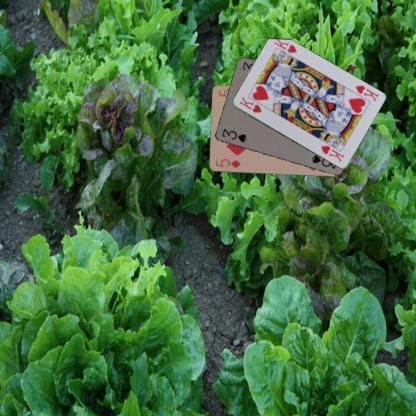3s: (219, 126, 248, 144)
5d: (213, 156, 242, 170)
Kh: (236, 94, 263, 115), (352, 82, 380, 102)
